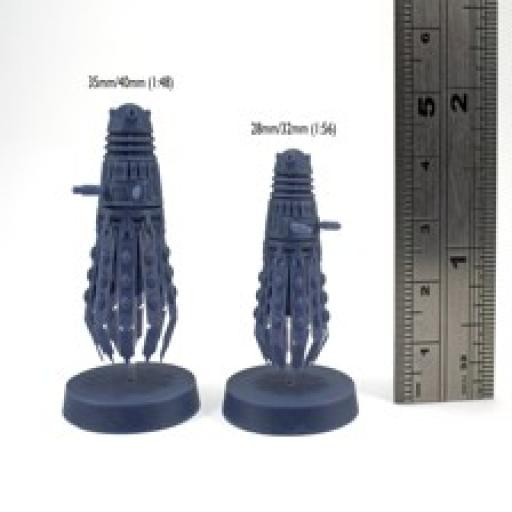dalek: (61, 103, 186, 366), (247, 148, 344, 365)
